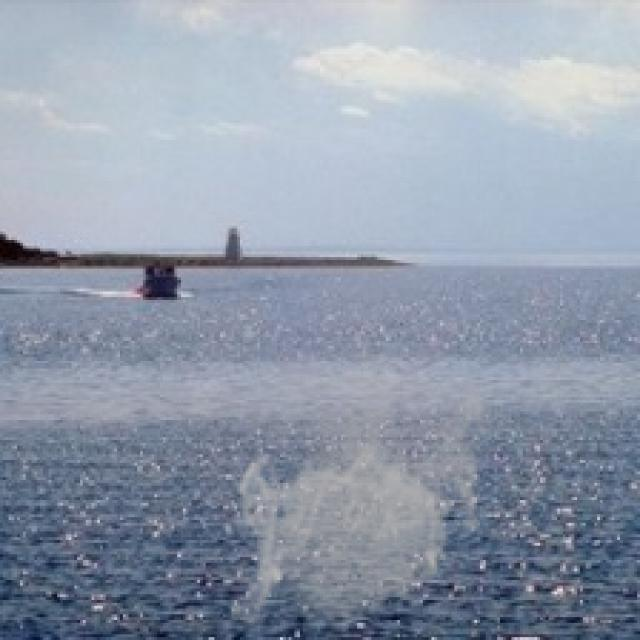smoke: (232, 354, 497, 634)
